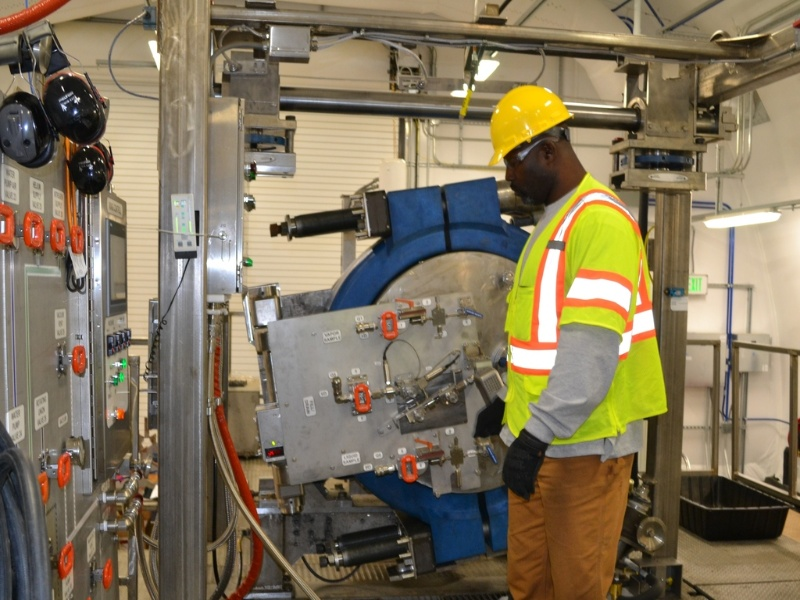helmet: (491, 85, 576, 157)
jacket: (512, 197, 664, 432)
